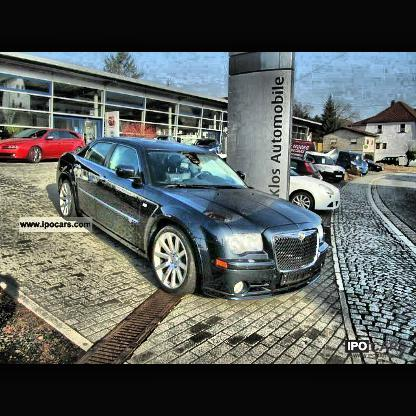Chrysler 300 SRT-8 2010: (57, 138, 330, 302)
